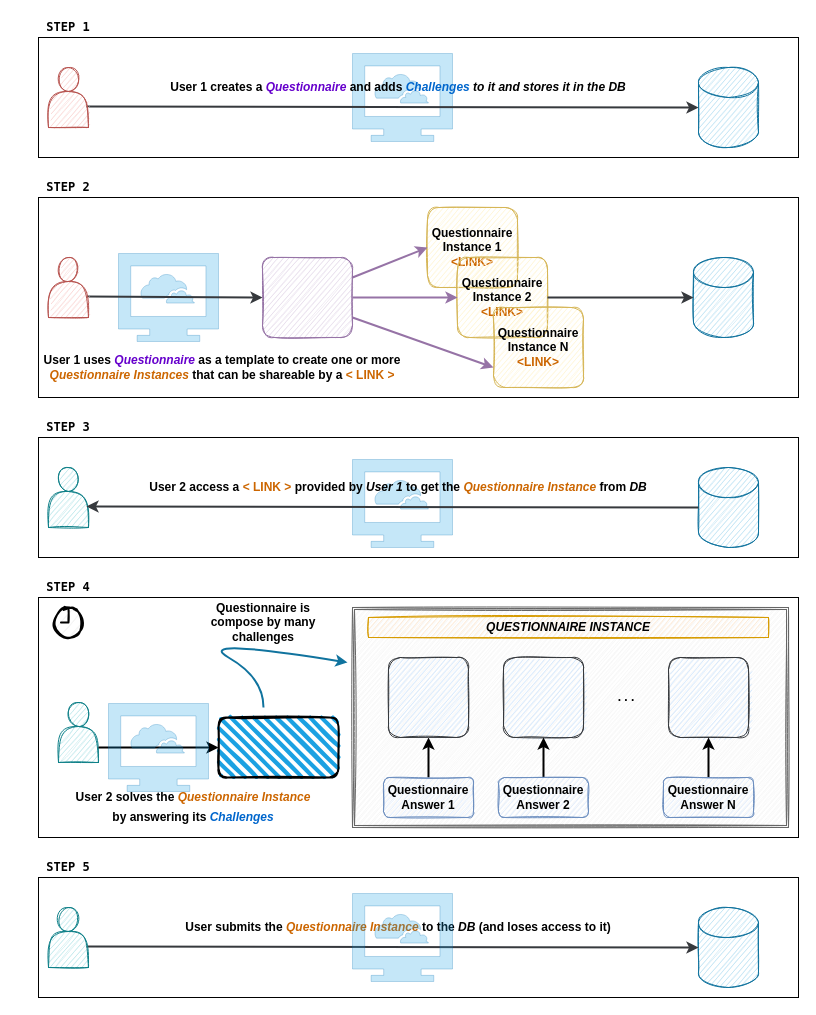
Some shapes in this 816 by 1015 pixel diagram are drawn without their labels. The centre of each missing label's shape, as x and y in pixels:
Challenge 1 in Java: the point at 428,697
Challenge 2 in JavaScript: the point at 543,697
Challenge N in Python & Kotlin: the point at 708,697
Questionnaire: the point at 307,297
